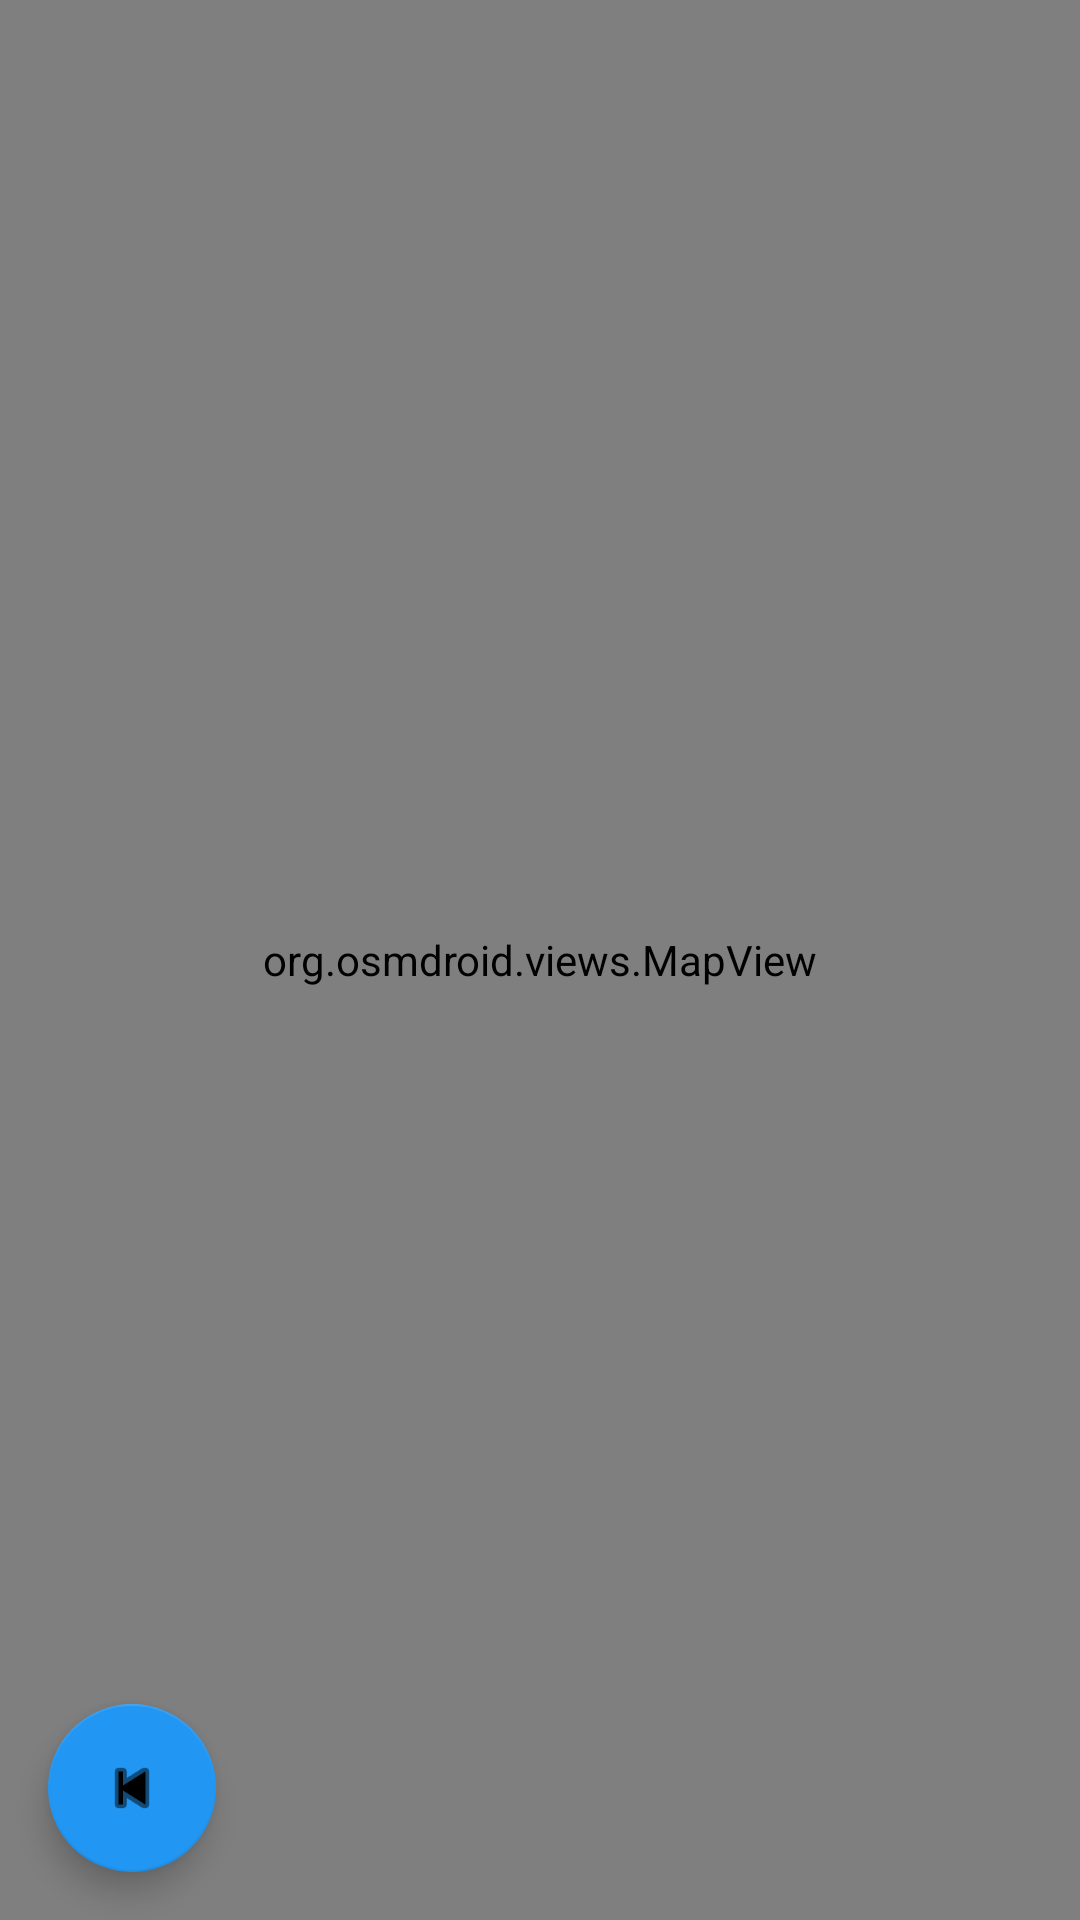

Named icons in this screenshot (1080px×1920px) and their centers, [x,y]:
Back: [132,1788]
